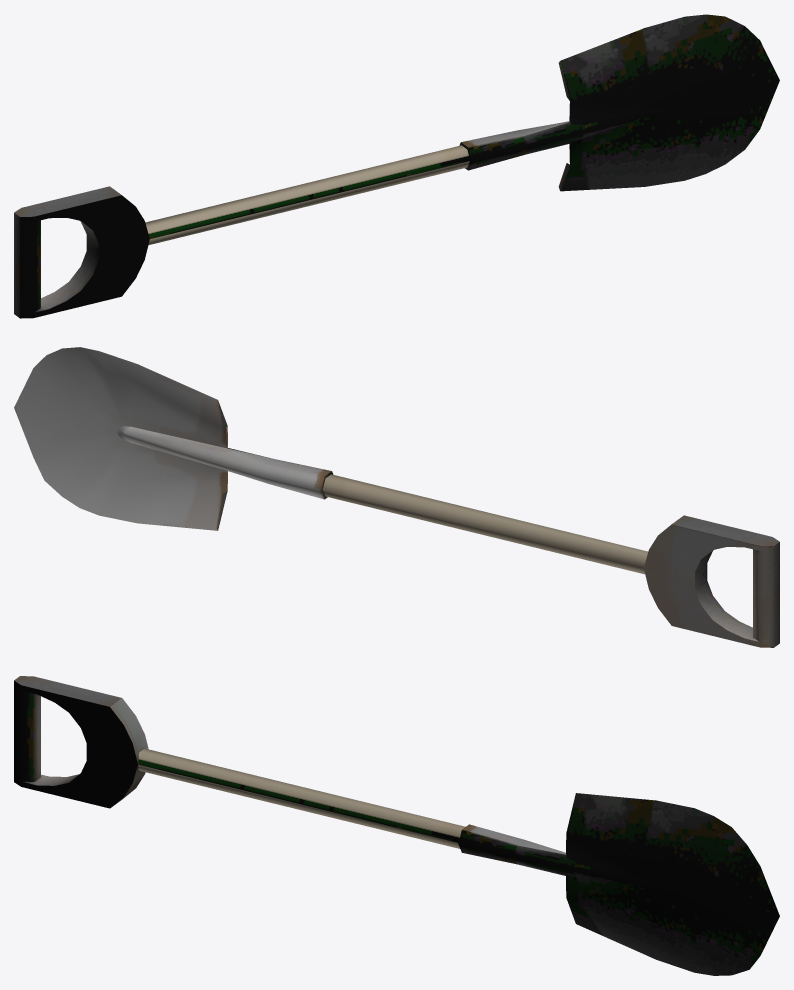
Rendered from props_farm_tools_shovel.glb.
The picture shows the model from 3 angles, top to bottom: view 1: azimuth 30°, elevation 25°; view 2: azimuth 150°, elevation 25°; view 3: azimuth 330°, elevation 25°; orthographic projection.
Visible parts, largest first — view 1: models/props_farm/tools_shovel; view 2: models/props_farm/tools_shovel; view 3: models/props_farm/tools_shovel.
Part boxes in pixels (x1,y1,x2,y2): models/props_farm/tools_shovel: [14, 14, 779, 318]; models/props_farm/tools_shovel: [14, 347, 779, 647]; models/props_farm/tools_shovel: [14, 676, 779, 975].
Size of the model in its own units: 61.8 by 12.72 by 2.31.
1 material, 1 textured.
